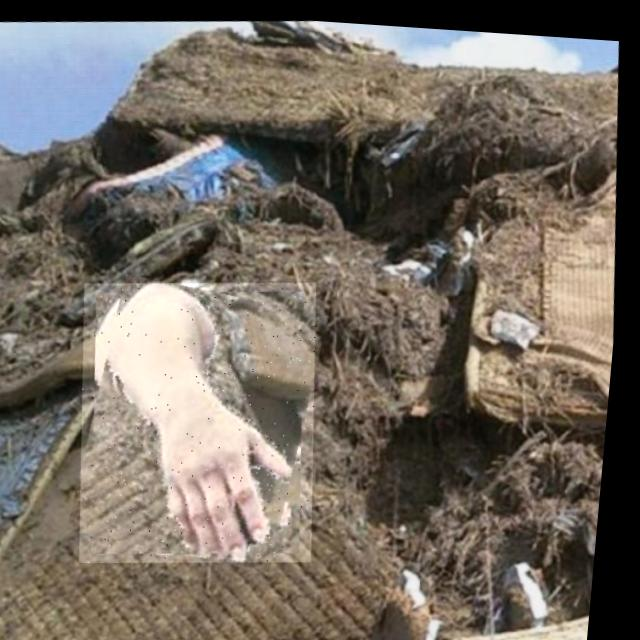Person in Rubble: (70, 266, 340, 573)
